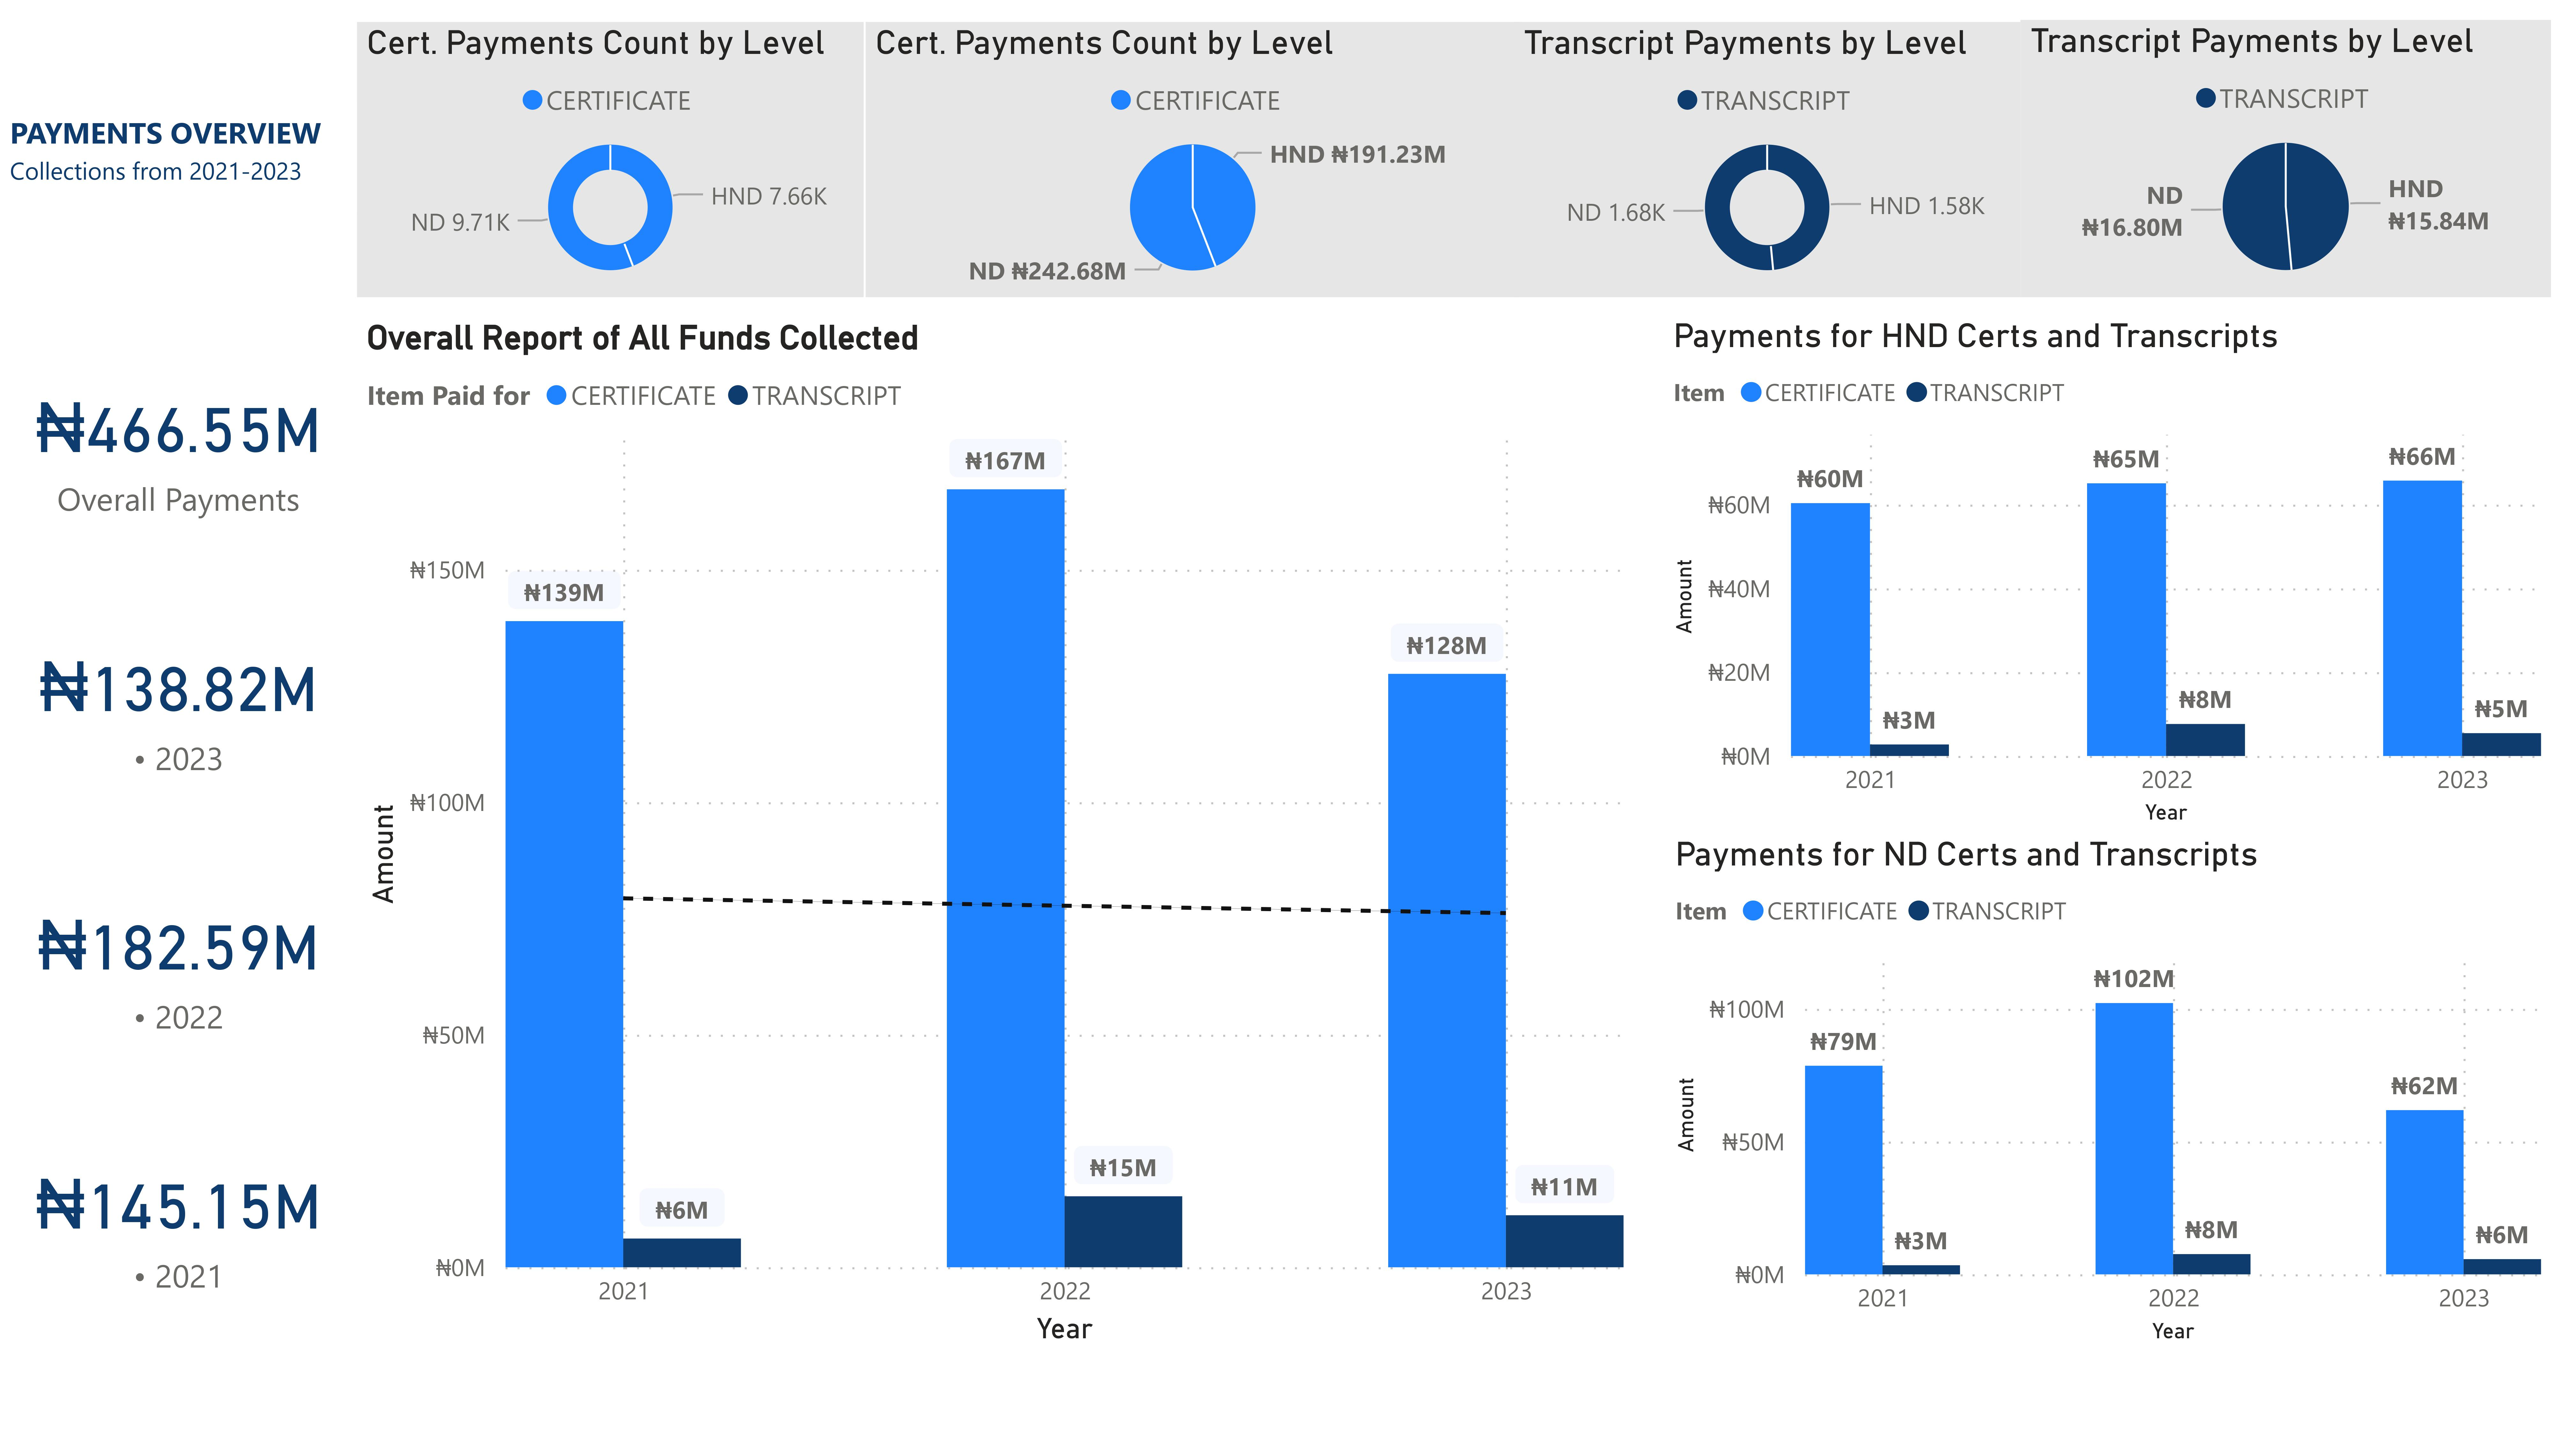

The dashboard page shown, as its layout file describes it:
{"tool":"powerbi","page":{"name":"Payments Report","canvas":[1280,720],"ordinal":0},"visuals":[{"type":"clusteredColumnChart","title":"Overall Report of All Funds Collected","fields":{"Category":["ditco_other_payments.Year"],"Y":["Sum(ditco_other_payments.Amount)"],"Series":["ditco_other_payments.Item"]},"box":[178.9,153.8,640.3,519.7],"z":0},{"type":"pieChart","title":"Cert. Payments Count by Level","fields":{"Y":["Sum(ditco_other_payments.Amount)"],"Category":["ditco_other_payments.Item"],"Series":["PortalPayments.Level"]},"box":[434.3,5.8,327.7,137.8],"z":1000},{"type":"pieChart","title":"Transcript Payments by Level","fields":{"Y":["Sum(ditco_other_payments.Amount)"],"Category":["PortalPayments.Item"],"Series":["PortalPayments.Level"]},"box":[1013.3,5,266.4,138.7],"z":2000},{"type":"donutChart","title":"Cert. Payments Count by Level","fields":{"Y":["CountNonNull(PortalPayments.Level)"],"Category":["PortalPayments.Item"],"Series":["PortalPayments.Level"]},"box":[178.9,6,254.3,137.7],"z":3000},{"type":"donutChart","title":"Transcript Payments by Level","fields":{"Y":["CountNonNull(PortalPayments.Level)"],"Category":["PortalPayments.Item"],"Series":["PortalPayments.Level"]},"box":[759,6,254.3,137.7],"z":4000},{"type":"textbox","box":[0,46.4,179.3,55.5],"z":5000},{"type":"clusteredColumnChart","title":"Payments for HND Certs and Transcripts","fields":{"Y":["Sum(PortalPayments.Amount)"],"Category":["PortalPayments.Year"],"Series":["PortalPayments.Item"]},"box":[834.3,152.8,445.3,260.4],"z":6000},{"type":"clusteredColumnChart","title":"Payments for ND Certs and Transcripts","fields":{"Y":["Sum(PortalPayments.Amount)"],"Category":["PortalPayments.Year"],"Series":["PortalPayments.Item"]},"box":[835,413,444,260],"z":7000},{"type":"card","title":"Overall Paymenyts","fields":{"Values":["Sum(PortalPayments.Amount)"]},"box":[0,153.8,178.9,129.7],"z":8000},{"type":"card","fields":{"Values":["Sum(PortalPayments.Amount)"]},"box":[0,284.5,178.9,129.7],"z":9000},{"type":"card","fields":{"Values":["Sum(PortalPayments.Amount)"]},"box":[0,414.2,178.9,128.7],"z":10000},{"type":"card","fields":{"Values":["Sum(PortalPayments.Amount)"]},"box":[0,542.8,178.9,130.7],"z":11000}]}

Visuals, with their boxes in screenshot pixels (x1, y1, x2, y2), scaled from the page's 1280x720 canvas onto the 2553x1456 screenshot:
"Overall Report of All Funds Collected" clusteredColumnChart: l=357, t=311, r=1634, b=1362
"Cert. Payments Count by Level" pieChart: l=866, t=12, r=1520, b=290
"Transcript Payments by Level" pieChart: l=2021, t=10, r=2552, b=291
"Cert. Payments Count by Level" donutChart: l=357, t=12, r=864, b=291
"Transcript Payments by Level" donutChart: l=1514, t=12, r=2021, b=291
textbox: l=0, t=94, r=358, b=206
"Payments for HND Certs and Transcripts" clusteredColumnChart: l=1664, t=309, r=2552, b=836
"Payments for ND Certs and Transcripts" clusteredColumnChart: l=1666, t=835, r=2551, b=1361
"Overall Paymenyts" card: l=0, t=311, r=357, b=573
card - Sum(PortalPayments.Amount): l=0, t=575, r=357, b=838
card - Sum(PortalPayments.Amount): l=0, t=838, r=357, b=1098
card - Sum(PortalPayments.Amount): l=0, t=1098, r=357, b=1362
